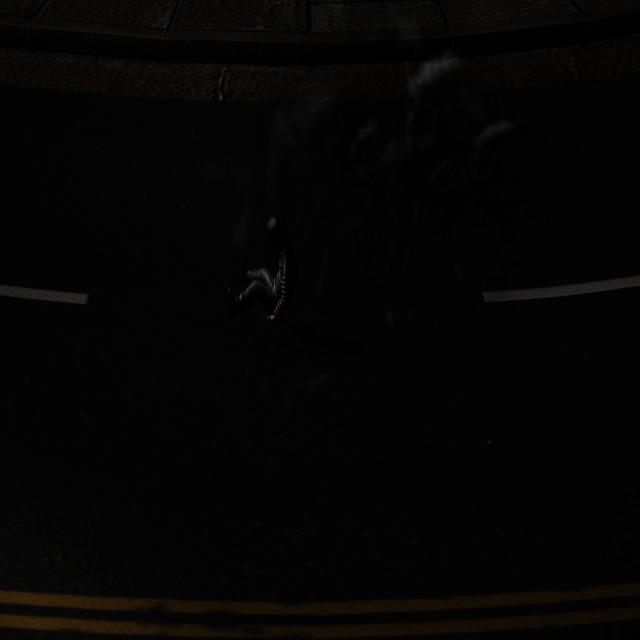Human: (222, 208, 299, 330)
